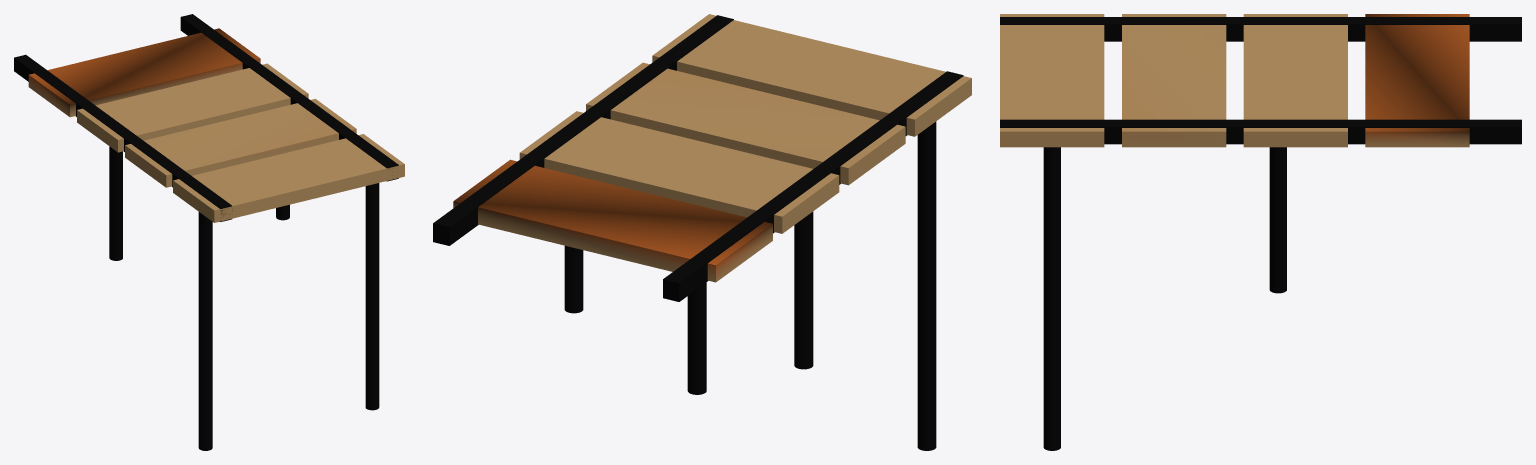
The model's file is pier.gltf.
3 renders of one model, left to right at view 1: azimuth 30°, elevation 25°; view 2: azimuth 150°, elevation 25°; view 3: azimuth 270°, elevation 25°, orthographic. The views are drawn at different scales.
Parts seen in each view (by area): view 1: Cube, Cube.003, Cube.001, Cube.002, Cylinder.002, Cylinder, Cube.004, Cube.005, Cylinder.003; view 2: Cube.003, Cube.002, Cube.001, Cube, Cylinder.002, Cube.004, Cube.005, Cylinder.003, Cylinder, Cylinder.001; view 3: Cube.003, Cube, Cube.001, Cube.002, Cube.005, Cube.004, Cylinder, Cylinder.001.
Part boxes in pixels (box(x1,y1,x2,y2)): Cube: box(173, 134, 404, 222); Cube.003: box(28, 28, 260, 117); Cube.001: box(125, 98, 356, 187); Cube.002: box(77, 63, 308, 152); Cylinder.002: box(198, 212, 212, 450); Cylinder: box(365, 183, 379, 410); Cube.004: box(14, 54, 232, 221); Cube.005: box(180, 14, 398, 181); Cylinder.003: box(109, 146, 122, 260); Cube.003: box(453, 159, 772, 282); Cube.002: box(519, 111, 839, 233); Cube.001: box(586, 62, 905, 185); Cube: box(652, 14, 971, 136); Cylinder.002: box(917, 121, 936, 450); Cube.004: box(663, 71, 963, 301); Cube.005: box(433, 15, 733, 245); Cylinder.003: box(794, 211, 813, 369); Cylinder: box(687, 282, 706, 394); Cylinder.001: box(564, 245, 583, 313); Cube.003: box(1365, 14, 1469, 147); Cube: box(1000, 14, 1104, 147); Cube.001: box(1122, 14, 1226, 147); Cube.002: box(1243, 14, 1347, 147); Cube.005: box(1000, 119, 1521, 144); Cube.004: box(1000, 17, 1521, 41); Cylinder: box(1043, 147, 1060, 450); Cylinder.001: box(1269, 147, 1286, 293).
Size of the model in its own units: 1.6 by 2.05 by 3.
